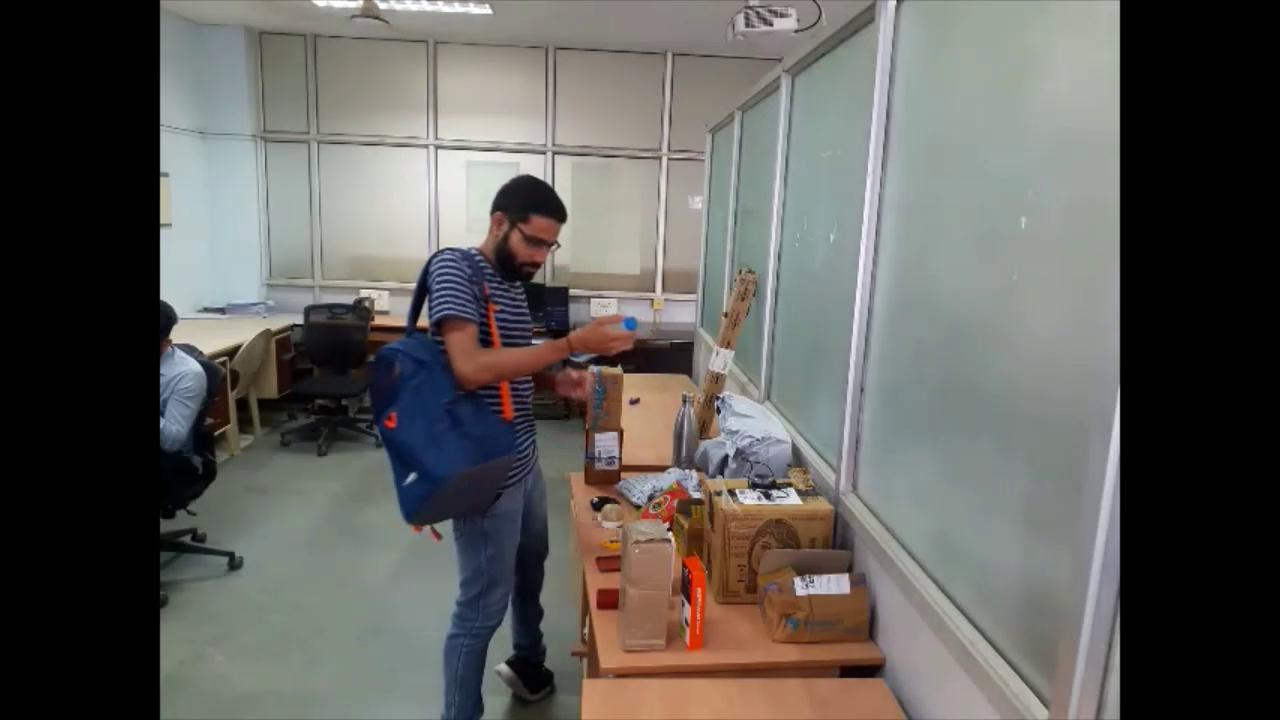Normal: (372, 177, 646, 713)
